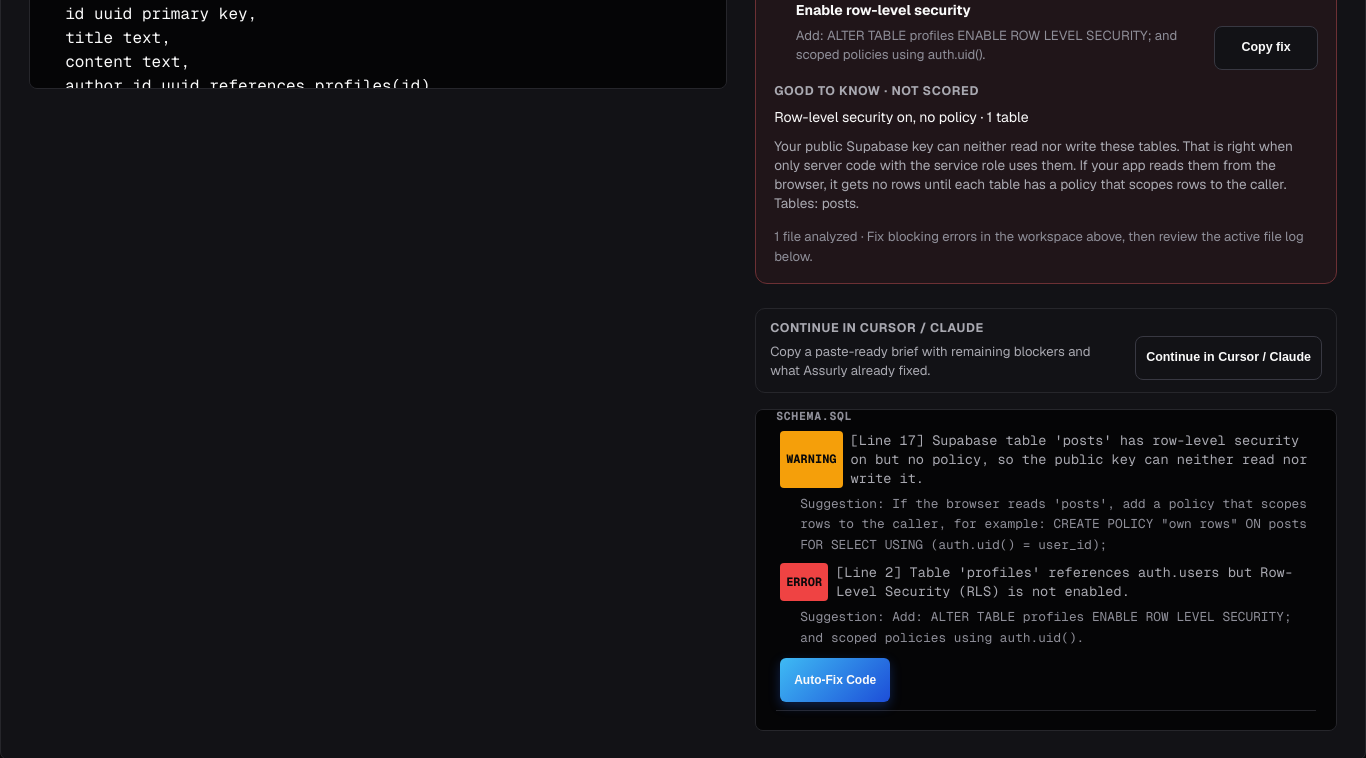
Test: ManualChecker Ship Loop (snippet autofix) › shows Ship Receipt when the SQL snippet becomes READY TO SHIP
(page scrolled)
Click the button with aria-label "Auto-fix error in schema.sql" at (835, 680), box [780,658,890,702]
Wait 900 ms
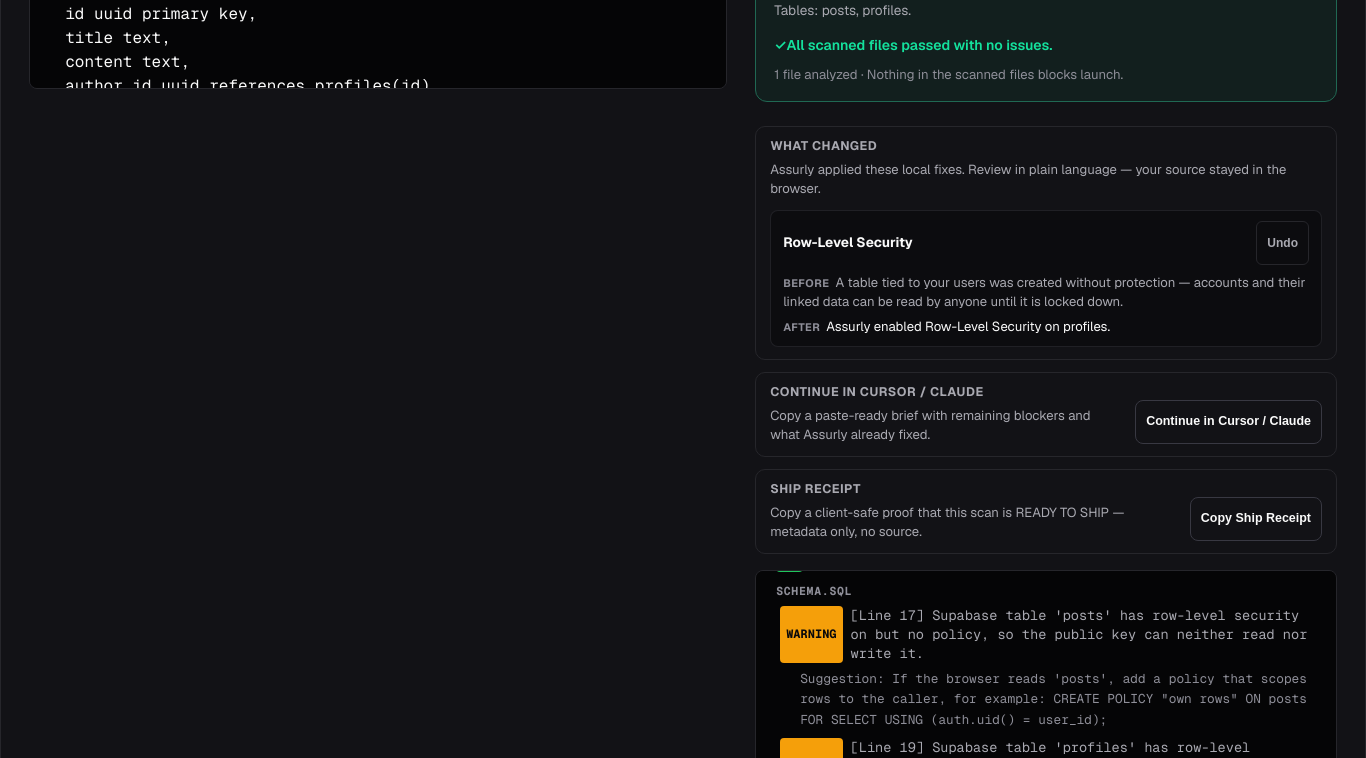
Expected: the element with test id "ship-loop-receipt" is shown, [755,469,1337,554]
Expected: the button "Copy Ship Receipt" is shown, [1190,497,1322,541]
